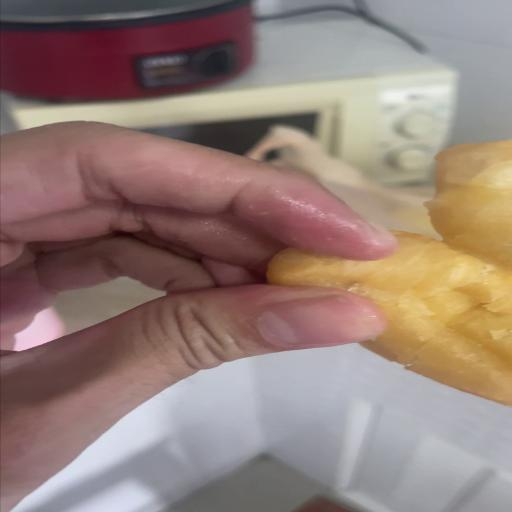street_golden_defect: (269, 134, 512, 405)
